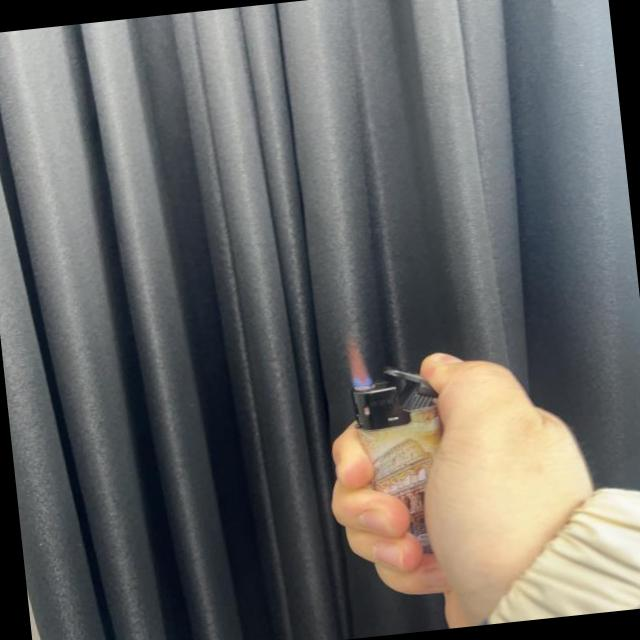Fire: (342, 334, 373, 391)
